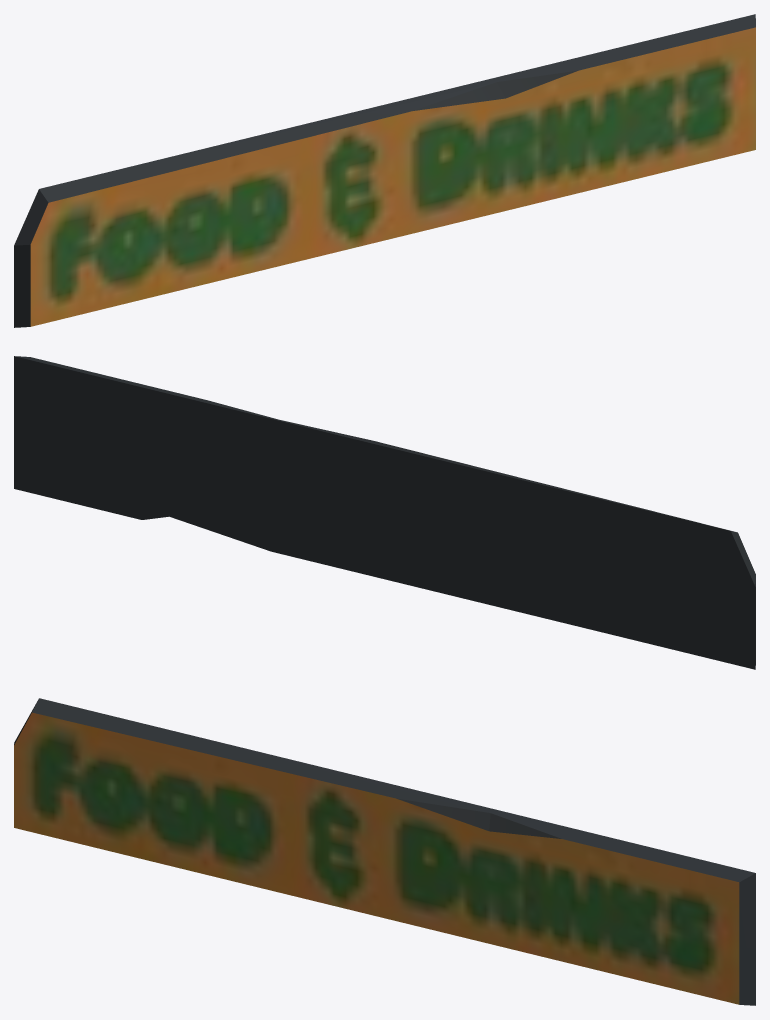
File: sign-food.glb
3 renders of one model, top to bottom at view 1: azimuth 30°, elevation 25°; view 2: azimuth 150°, elevation 25°; view 3: azimuth 330°, elevation 25°, orthographic.
Visible parts, largest first — view 1: SM_Prop_Sign_Food_Drinks_01; view 2: SM_Prop_Sign_Food_Drinks_01; view 3: SM_Prop_Sign_Food_Drinks_01.
Boxes of the visible parts, x1,y1,x2,y2 form: SM_Prop_Sign_Food_Drinks_01: (14, 14, 755, 327); SM_Prop_Sign_Food_Drinks_01: (14, 356, 755, 669); SM_Prop_Sign_Food_Drinks_01: (14, 698, 755, 1005).
Size of the model in its own units: 257 by 44.01 by 5.04.
Materials: 1 (1 with a texture image).
